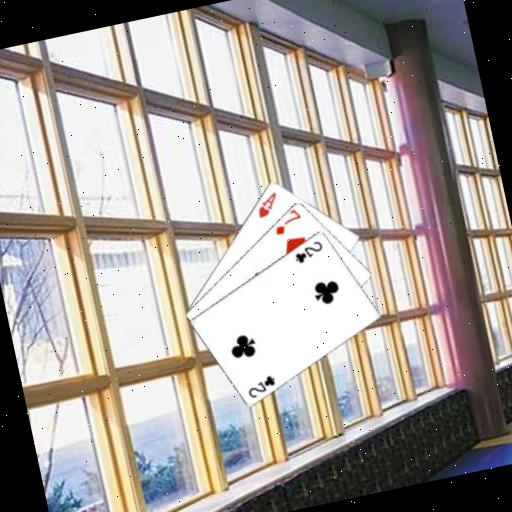2C: (289, 236, 327, 265), (242, 371, 280, 400)
7D: (268, 205, 305, 238)
AH: (251, 188, 283, 220)
